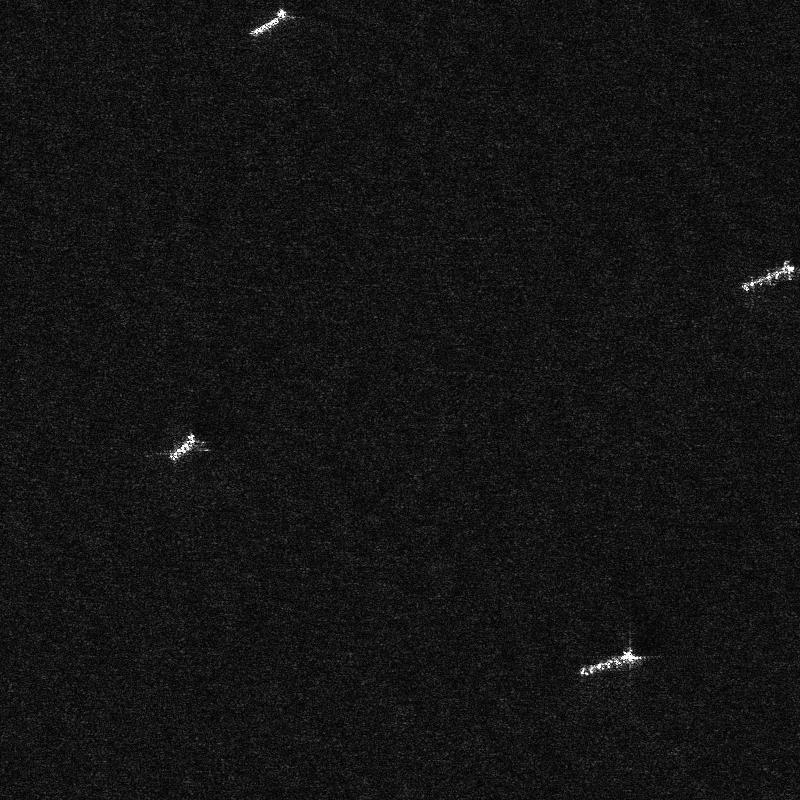ship: (578, 648, 641, 676), (741, 260, 794, 291), (249, 8, 286, 36), (169, 433, 195, 460)
